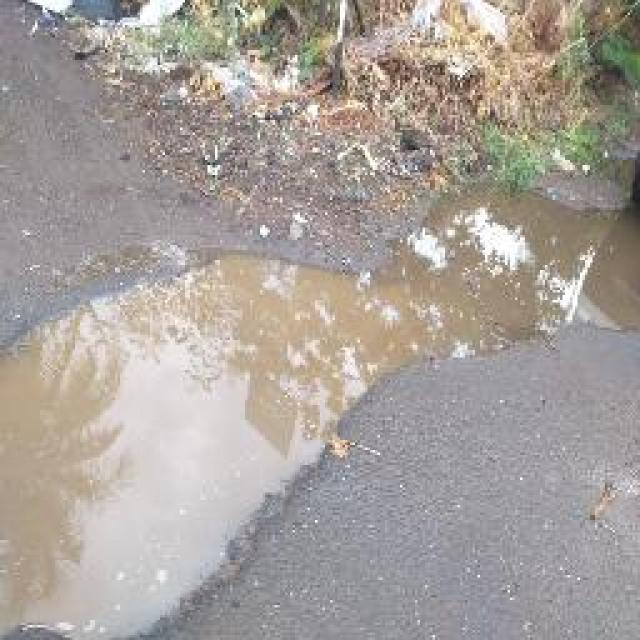puddle: (7, 193, 640, 627)
